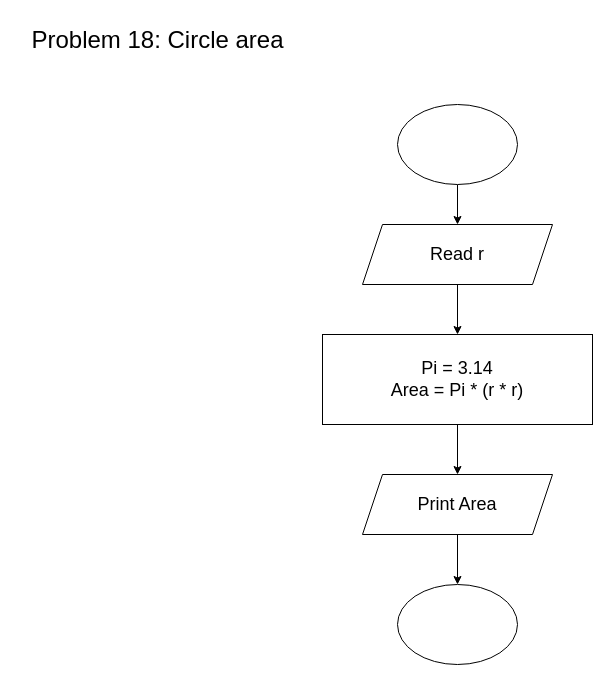
Some shapes in this 610 by 682 pixel diagram are drawn without their labels. Each missing label, with the centre of its shape:
"End" belongs at (x=457, y=624).
"Start" belongs at (x=457, y=144).
